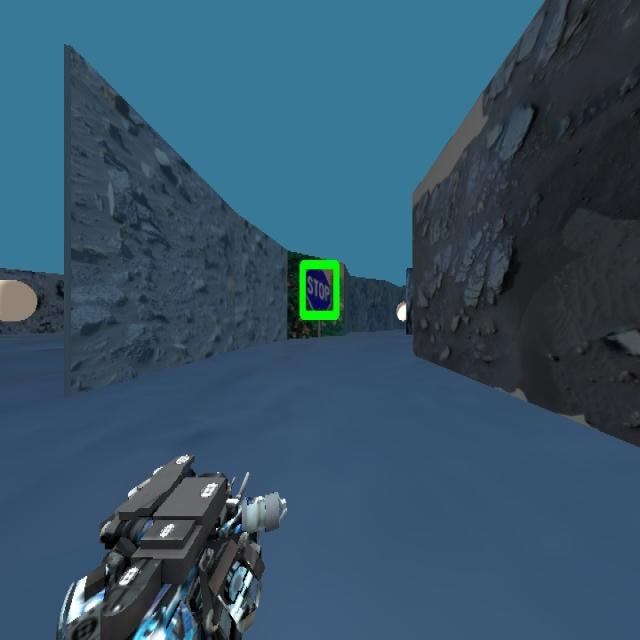Circle: (0, 245, 44, 372), (391, 294, 419, 349)
Stop_Sign: (298, 258, 340, 322)
